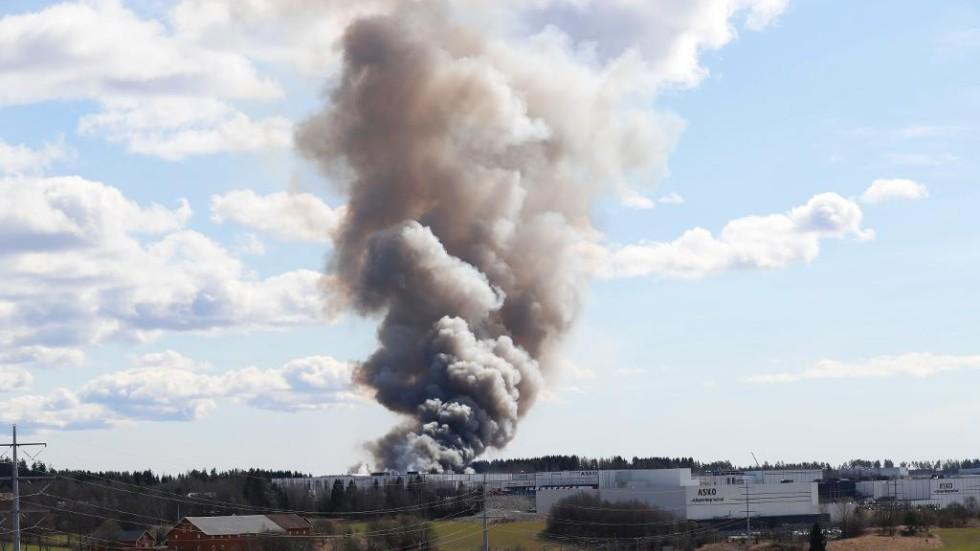smoke: (295, 5, 607, 479)
